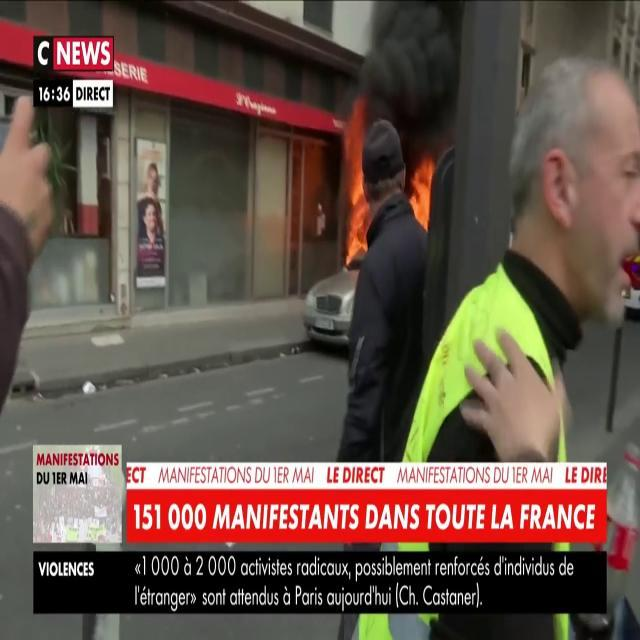Fire: (341, 101, 371, 268), (408, 146, 440, 234)
Smoke: (354, 0, 468, 140)
